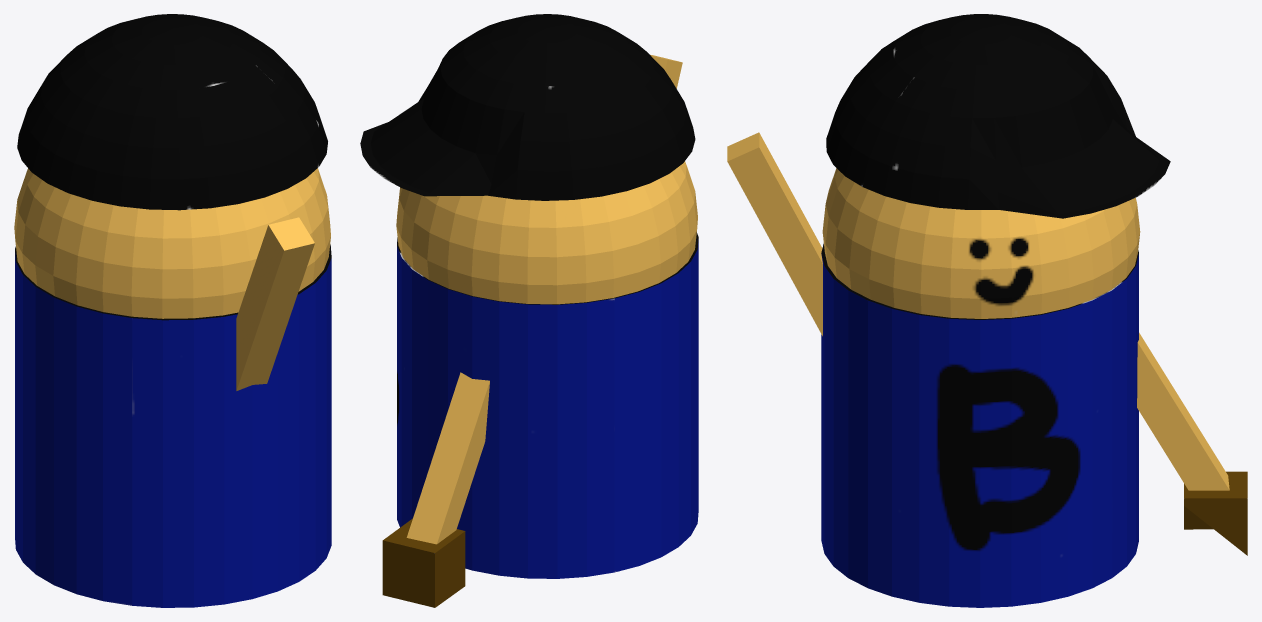
Rendered from BatterBox.obj.
3 views of the same model, side by side, from view 1: azimuth 30°, elevation 25°; view 2: azimuth 150°, elevation 25°; view 3: azimuth 270°, elevation 25° (orthographic). The views are drawn at different scales.
Parts seen in each view (by area): view 1: 立方体.002; view 2: 立方体.002; view 3: 立方体.002.
Part boxes in pixels (x1,y1,x2,y2): 立方体.002: (14,14,331,607); 立方体.002: (360,14,698,607); 立方体.002: (727,14,1247,607).
Size of the model in its own units: 2.1 by 3.56 by 3.28.
1 material, 1 textured.
